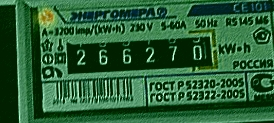0: (190, 41, 202, 61)
2: (73, 45, 88, 67), (143, 43, 156, 64)
6: (96, 46, 109, 66), (120, 44, 133, 64)
7: (166, 42, 179, 62)
screen: (52, 20, 228, 86)
